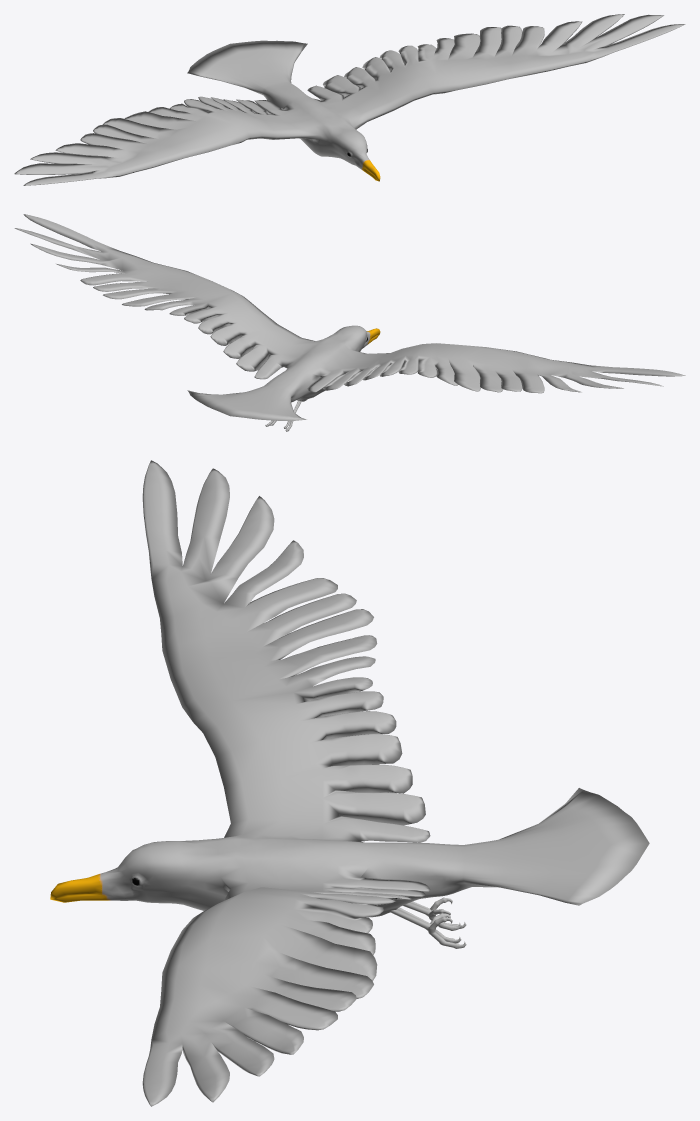
Rendered from gull.obj.
The picture shows the model from 3 angles, top to bottom: view 1: azimuth 30°, elevation 25°; view 2: azimuth 150°, elevation 25°; view 3: azimuth 270°, elevation 25°; orthographic projection. The views are drawn at different scales.
Parts seen in each view (by area): view 1: gull; view 2: gull; view 3: gull.
Boxes of the visible parts, bbox=[...] form: gull: bbox=[14, 14, 685, 185]; gull: bbox=[14, 214, 685, 431]; gull: bbox=[50, 460, 649, 1106].
Bounding box in the file's own units: 53.36 × 6.01 × 20.89.
Materials: 1 (1 with a texture image).
